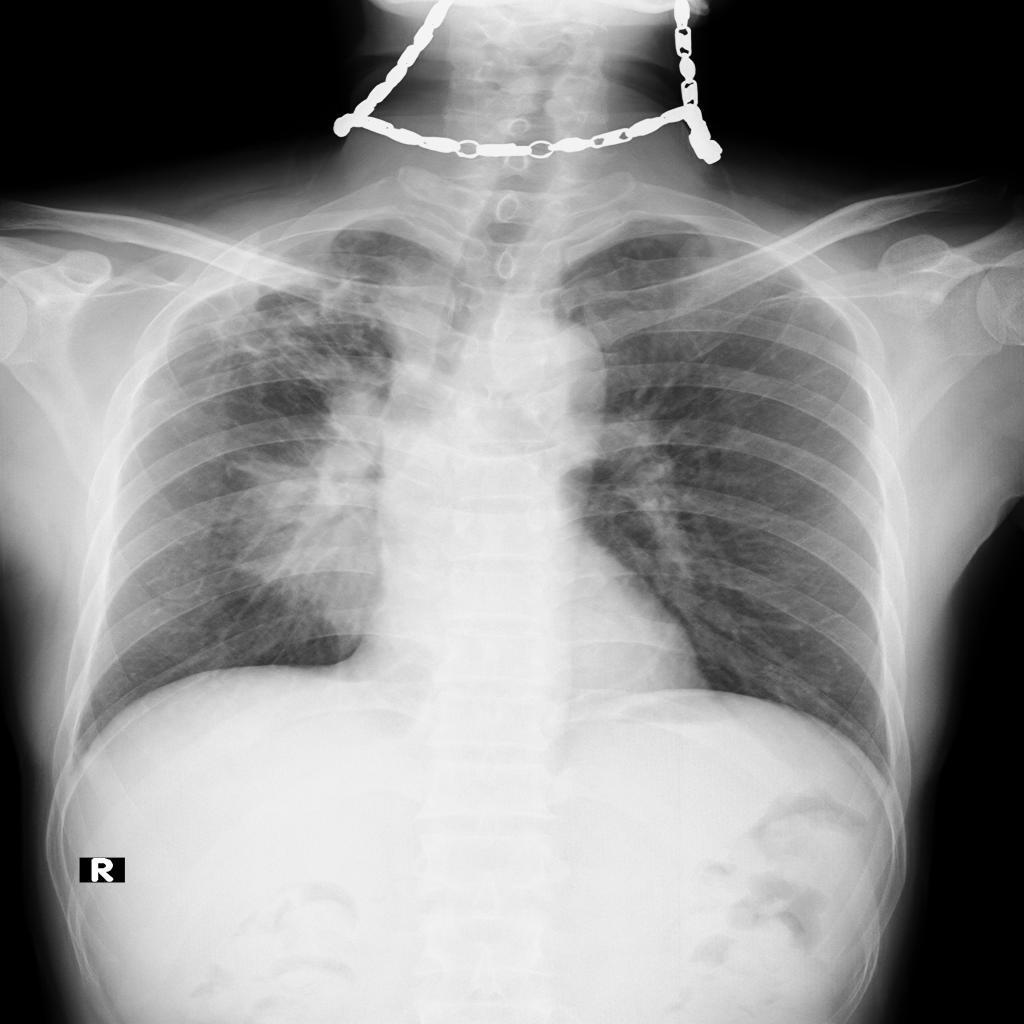Nodule: (236, 395, 382, 635)
